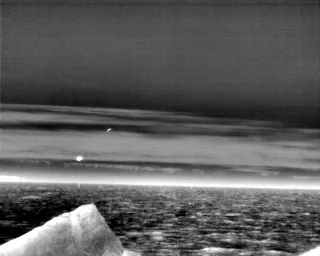HELICOPTER: (73, 152, 86, 164)
